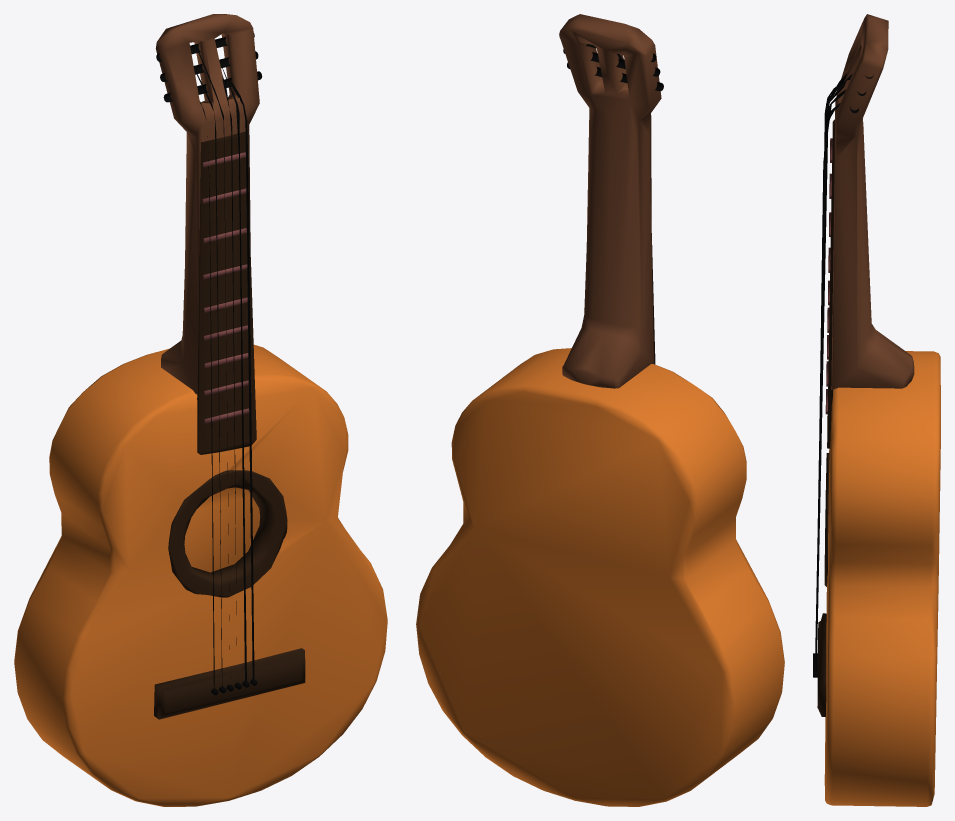
Rendered from Guitar.glb.
3 renders of one model, left to right at view 1: azimuth 30°, elevation 25°; view 2: azimuth 150°, elevation 25°; view 3: azimuth 270°, elevation 25°, orthographic.
Visible parts, largest first — view 1: 3d66-Editable_Poly-23227554-001; view 2: 3d66-Editable_Poly-23227554-001; view 3: 3d66-Editable_Poly-23227554-001.
Boxes of the visible parts, box(x1,y1,x2,y2) form: 3d66-Editable_Poly-23227554-001: box(14, 14, 387, 806); 3d66-Editable_Poly-23227554-001: box(416, 14, 784, 806); 3d66-Editable_Poly-23227554-001: box(813, 14, 940, 806).
Size of the model in its own units: 0.5022 by 1.14 by 0.174.
1 material, 1 textured.
